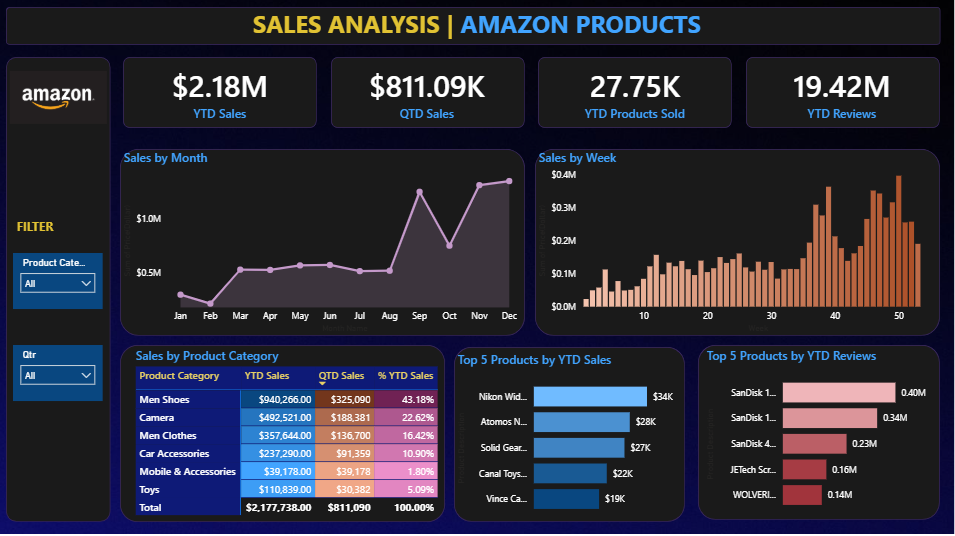

The page's visual inventory and layout, read from the dashboard file:
{"tool":"powerbi","page":{"name":"Page 1","canvas":[1280,720],"ordinal":0},"visuals":[{"type":"shape","box":[163.4,464.1,435.2,237.1],"z":0},{"type":"shape","box":[10.1,79.5,140.2,621.7],"z":1000},{"type":"pivotTable","title":"Sales by Product Category","fields":{"Rows":["Amazon_Data.Product Category"],"Values":["Amazon_Data.YTD Sales1","Amazon_Data.QTD Sales","Amazon_Data.YTD Sales"]},"box":[179.3,467,430.8,237.1],"z":2000},{"type":"shape","box":[163.4,202.4,542.2,250.1],"z":3000},{"type":"shape","box":[167.7,79.5,260.2,95.4],"z":4000},{"type":"shape","box":[10.1,11.6,1250.6,50.6],"z":5000},{"type":"card","fields":{"Values":["Amazon_Data.YTD Sales"]},"box":[167.7,79.5,260.2,95.4],"z":6000,"group":"g1"},{"type":"textbox","box":[335.4,7.2,628.9,54.9],"z":6000},{"type":"card","fields":{"Values":["Amazon_Data.QTD Sales"]},"box":[445.3,79.5,260.2,95.4],"z":7000,"group":"g1"},{"type":"shape","box":[445.3,79.5,260.2,95.4],"z":7000},{"type":"shape","box":[722.9,79.5,260.2,95.4],"z":8000},{"type":"shape","box":[1000.5,79.5,260.2,95.4],"z":9000},{"type":"card","fields":{"Values":["Amazon_Data.YTD Products Sold"]},"box":[722.9,79.5,260.2,95.4],"z":10000,"group":"g1"},{"type":"areaChart","title":"Sales by Month","fields":{"Category":["Date Table.Month Name"],"Y":["Sum(Amazon_Data.Price(Dollar))"]},"box":[163.4,202.4,542.2,250.1],"z":10000},{"type":"card","fields":{"Values":["Amazon_Data.YTD Reviews"]},"box":[1000.5,79.5,260.2,95.4],"z":11000,"group":"g1"},{"type":"group","id":"g1","title":"Group 1","box":[167.7,79.5,1093,95.4],"z":11000},{"type":"shape","box":[718.6,202.4,542.2,250.1],"z":12000},{"type":"columnChart","title":"Sales by Week","fields":{"Category":["Date Table.Week"],"Y":["Sum(Amazon_Data.Price(Dollar))"]},"box":[718.6,202.4,542.2,250.1],"z":13000},{"type":"shape","box":[610.1,467,309.4,234.2],"z":14000},{"type":"shape","box":[936.9,464.1,323.9,234.2],"z":15000},{"type":"clusteredBarChart","title":"Top 5 Products by YTD Sales","fields":{"Category":["Amazon_Data.Product Description"],"Y":["Amazon_Data.YTD Sales"]},"box":[610.1,472.8,309.4,231.3],"z":16000},{"type":"clusteredBarChart","title":"Top 5 Products by YTD Reviews","fields":{"Category":["Amazon_Data.Product Description"],"Y":["Amazon_Data.YTD Reviews"]},"box":[944.1,467,309.4,231.3],"z":17000},{"type":"slicer","fields":{"Values":["Amazon_Data.Product Category"]},"box":[20.2,341.2,120,75.2],"z":18000},{"type":"slicer","fields":{"Values":["Date Table.Qtr"]},"box":[20.2,464.1,120,75.2],"z":19000},{"type":"image","box":[10.1,62.2,140.2,143.1],"z":20000},{"type":"textbox","box":[20.2,290.6,73.7,37.6],"z":21000}]}

Visuals, with their boxes in screenshot pixels (x1, y1, x2, y2), scaled from the page's 1280x720 canvas onto the 955x536 screenshot:
shape: crop(122, 345, 447, 522)
shape: crop(8, 59, 112, 522)
"Sales by Product Category" pivotTable: crop(134, 348, 455, 524)
shape: crop(122, 151, 526, 337)
shape: crop(125, 59, 319, 130)
shape: crop(8, 9, 941, 46)
card - Amazon_Data.YTD Sales: crop(125, 59, 319, 130)
textbox: crop(250, 5, 719, 46)
card - Amazon_Data.QTD Sales: crop(332, 59, 526, 130)
shape: crop(332, 59, 526, 130)
shape: crop(539, 59, 733, 130)
shape: crop(746, 59, 941, 130)
card - Amazon_Data.YTD Products Sold: crop(539, 59, 733, 130)
"Sales by Month" areaChart: crop(122, 151, 526, 337)
card - Amazon_Data.YTD Reviews: crop(746, 59, 941, 130)
"Group 1" group: crop(125, 59, 941, 130)
shape: crop(536, 151, 941, 337)
"Sales by Week" columnChart: crop(536, 151, 941, 337)
shape: crop(455, 348, 686, 522)
shape: crop(699, 345, 941, 520)
"Top 5 Products by YTD Sales" clusteredBarChart: crop(455, 352, 686, 524)
"Top 5 Products by YTD Reviews" clusteredBarChart: crop(704, 348, 935, 520)
slicer - Amazon_Data.Product Category: crop(15, 254, 105, 310)
slicer - Date Table.Qtr: crop(15, 345, 105, 401)
image: crop(8, 46, 112, 153)
textbox: crop(15, 216, 70, 244)
